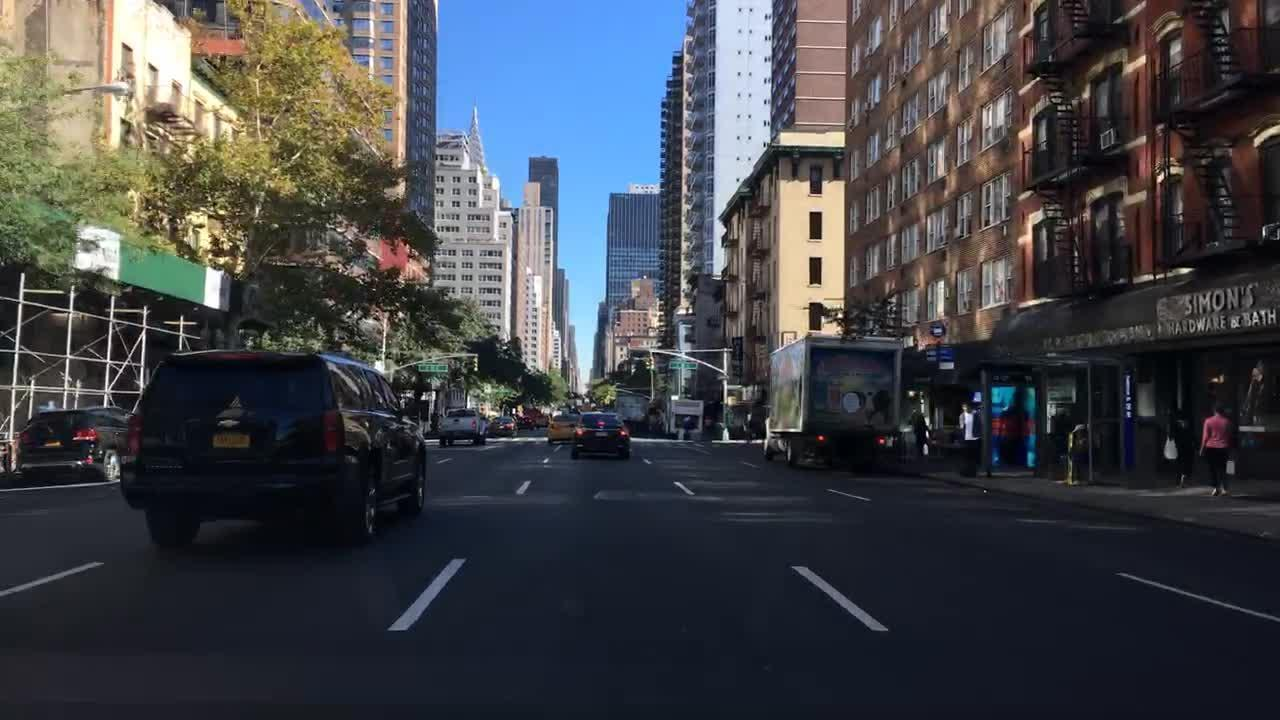chevrolet: (214, 415, 244, 434)
